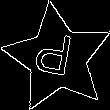P_S: (35, 30, 80, 86)
